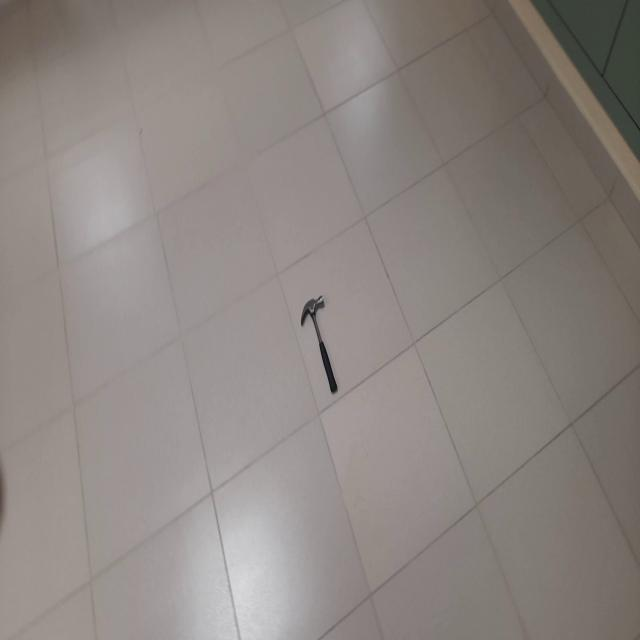hammer: (300, 295, 338, 393)
